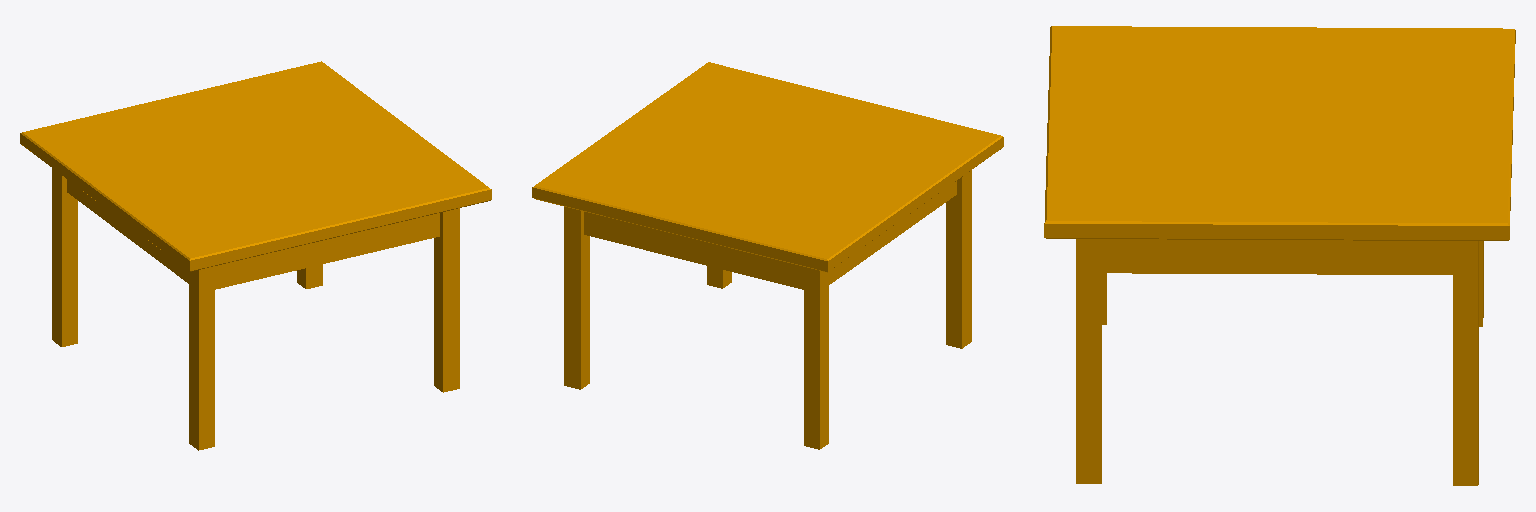
URDF robot description (end_table_02):
<?xml version="1.0" ?>
<robot name="end_table_02">
  <link name="baseLink">
    <contact>
      <lateral_friction value="1.0"/>
      <inertia_scaling value="3.0"/>
    </contact>
    <inertial>
      <origin rpy="0 0 0" xyz="-0.000 -0.000 -0.240"/>
       <mass value=".1"/>
       <inertia ixx="1" ixy="0.0" ixz="0.0" iyy="1" iyz="0.0" izz="1"/>
    </inertial>
    <visual>
      <origin rpy="0 0 0" xyz="0 0 0"/>
      <geometry>
        <mesh filename="visual.obj" scale="1.000 1.000 1.000"/>
      </geometry>
      <material name="texture_material">
            <texture filename="texture.png"/>
      </material>
    </visual>
    <collision>
      <origin rpy="0 0 0" xyz="0 0 0"/>
      <geometry>
        <mesh filename="visual.obj" scale="1.000 1.000 1.000"/>
      </geometry>
    </collision>
  </link>
</robot>
        

--- Facts derived from the render (not from the file) ---
The picture shows the robot from 3 angles, left to right: view 1: azimuth 30°, elevation 25°; view 2: azimuth 150°, elevation 25°; view 3: azimuth 270°, elevation 25°; orthographic projection.
Robot: end_table_02 — 1 links, 0 joints (none); root link baseLink; default pose: every joint at zero.
Visible links, largest first — view 1: baseLink; view 2: baseLink; view 3: baseLink.
Boxes of the visible links, x1=… form: baseLink: x1=20, y1=61, x2=491, y2=450; baseLink: x1=532, y1=62, x2=1003, y2=449; baseLink: x1=1044, y1=26, x2=1515, y2=485.
Size in the robot's own frame: 0.7448 by 0.7448 by 0.48 metres.
Meshes: 1 distinct files referenced, 1 mesh visuals loaded (1 OBJ).
